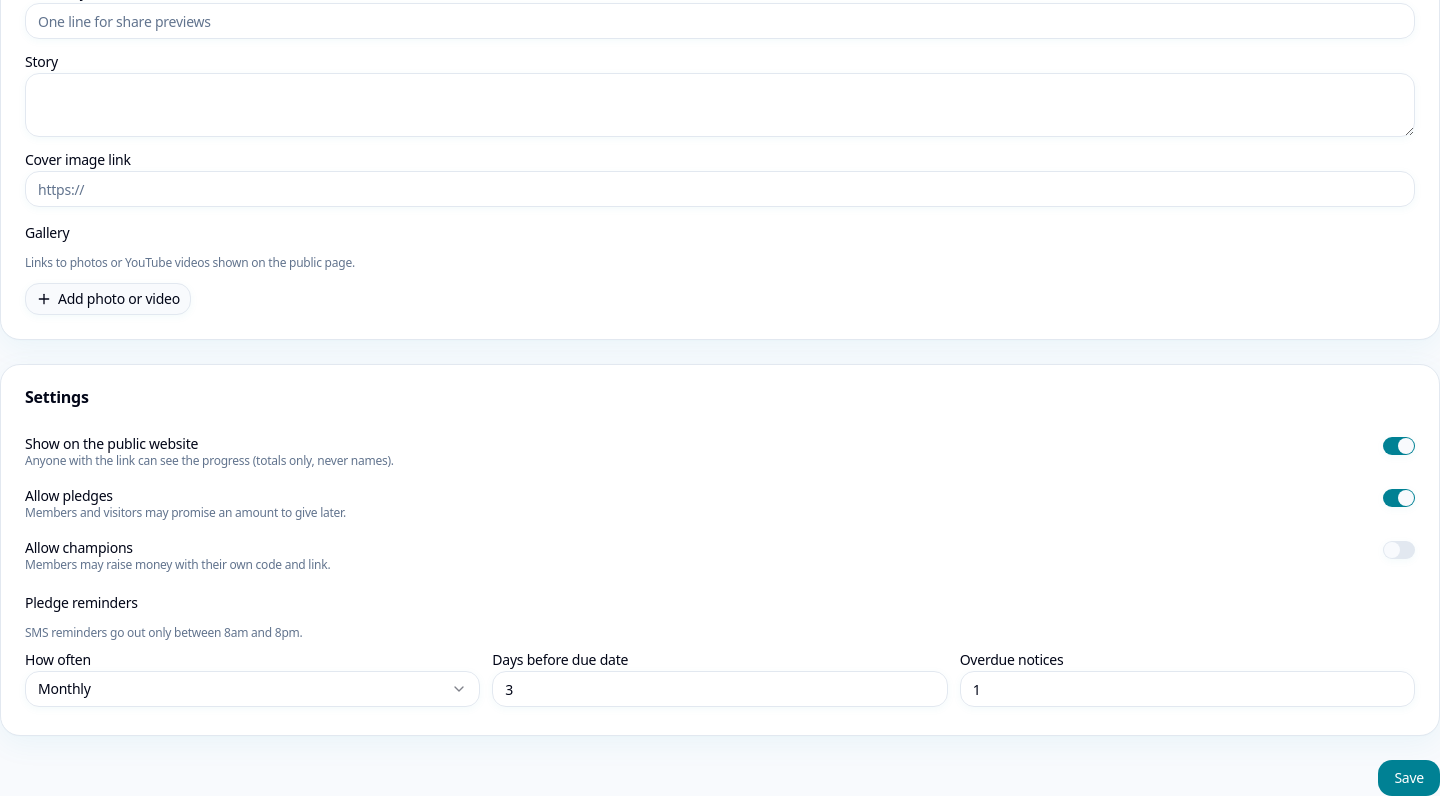
CampaignForm counting choice › refuses a group id that is not a WhatsApp group
This screenshot has width=1452, height=796.
(page scrolled)
Click the button "Save" at (1409, 778), box x1=1378 y1=760 x2=1440 y2=795
(page scrolled)
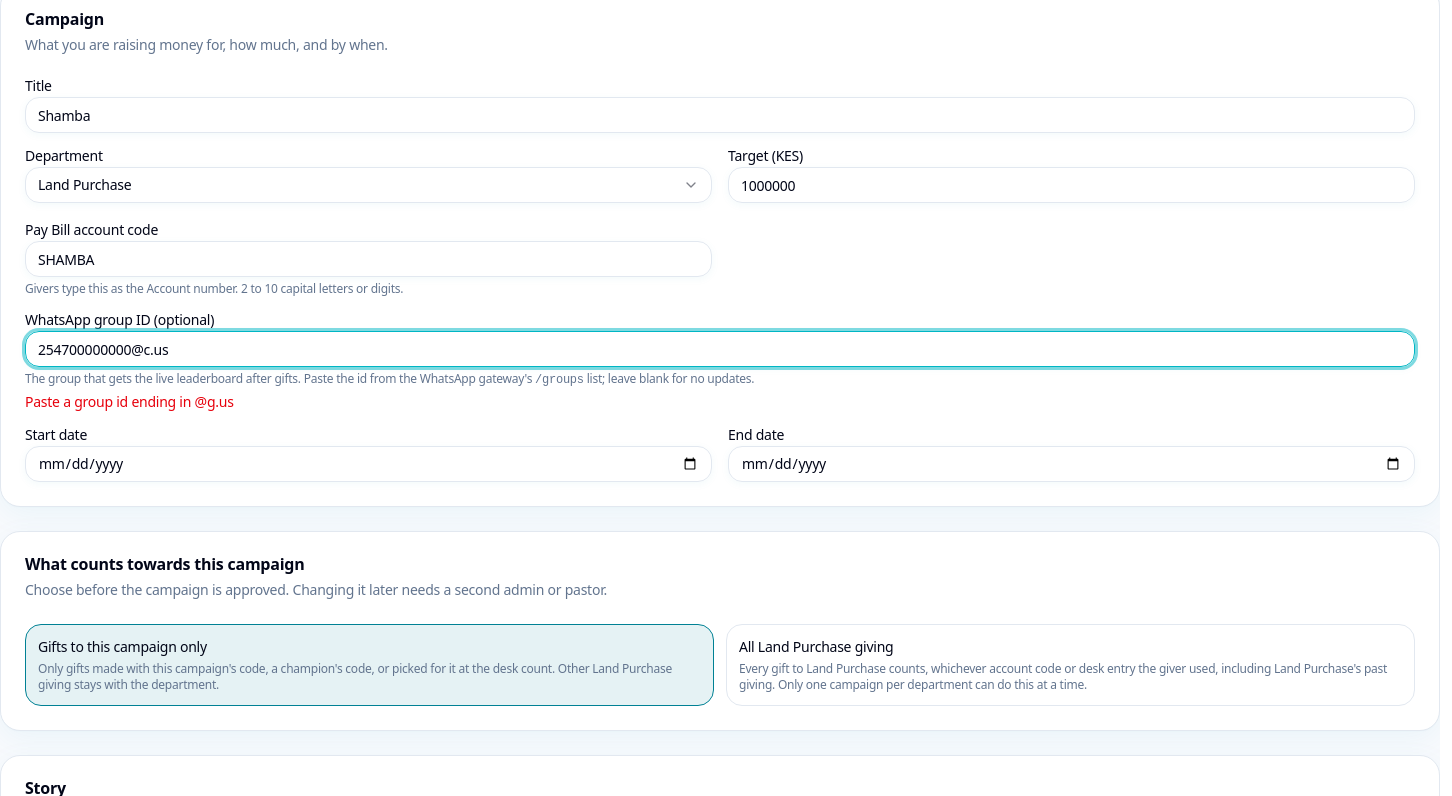
Check: the text "Paste a group id ending in @g.us" is shown, box x1=25 y1=392 x2=234 y2=411
